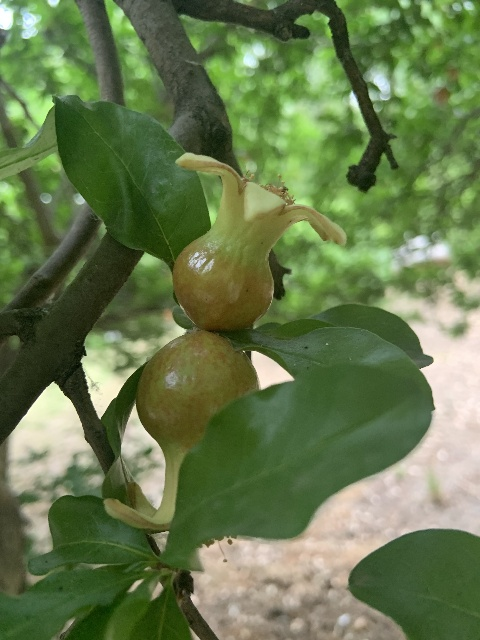early-fruit: (172, 154, 346, 332), (105, 330, 257, 533)
